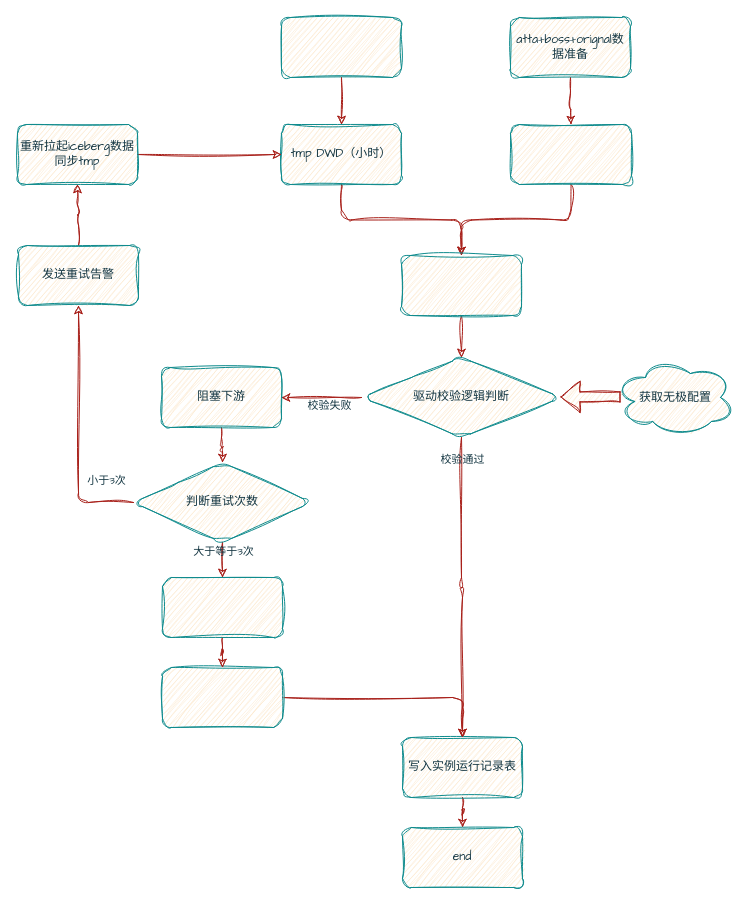
The diagram is 753 pixels wide and 905 high, and some of its shapes have lost their labels. Here are the shapes that lost their labels. From the top down, the box of each, then its label:
(280, 16, 402, 78): icebreg进度检查
(510, 124, 632, 184): ods等效计算链路
(400, 254, 522, 316): SLA指标校验
(162, 576, 282, 638): 发送故障告警
(162, 666, 282, 728): 离线回补iceberg数据修复脚本
